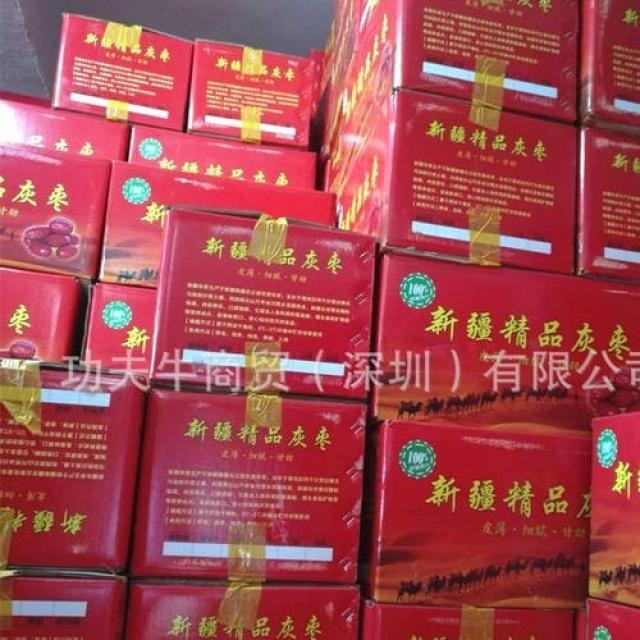box: (326, 1, 584, 193), (370, 251, 638, 433), (130, 385, 367, 583), (354, 417, 592, 610), (332, 90, 578, 274), (152, 210, 379, 399), (0, 361, 149, 575), (97, 163, 336, 289), (52, 12, 196, 132), (0, 142, 112, 282), (124, 580, 363, 639), (187, 40, 314, 147), (128, 125, 317, 192), (587, 412, 639, 608), (577, 124, 639, 284), (0, 90, 129, 163), (359, 596, 575, 639), (0, 572, 130, 639), (579, 0, 639, 136), (0, 270, 84, 365), (82, 283, 158, 376), (302, 47, 328, 153), (575, 596, 638, 639)
